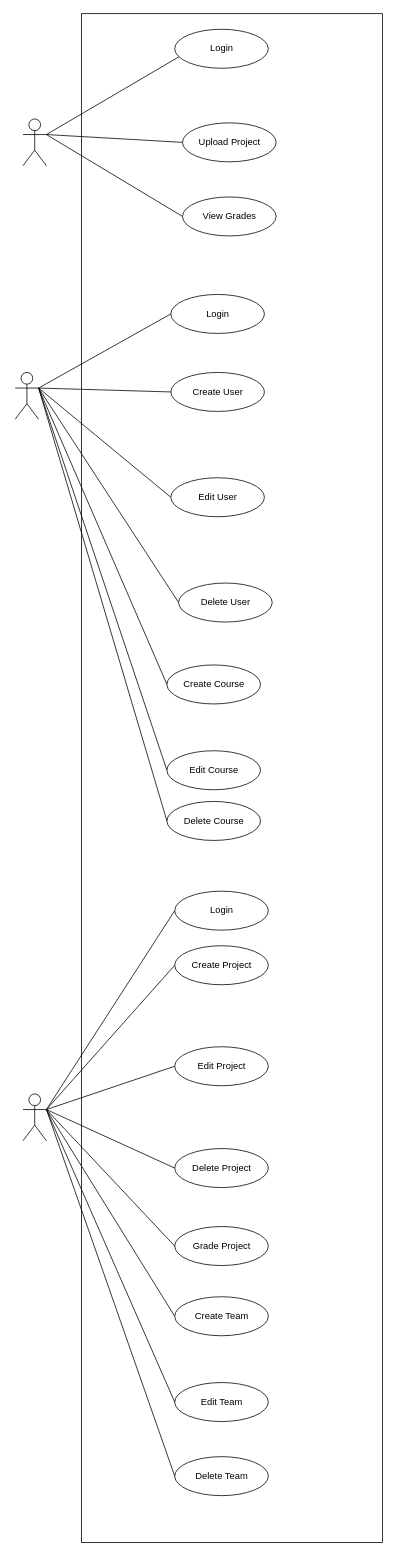
The diagram is 396 pixels wide and 1556 high, and some of its shapes have lost their labels. The box of each missing label's shape, as (x1, y1, x2, y2) in pixels:
Admin: (14, 372, 39, 419)
Professor: (22, 1093, 46, 1141)
Student: (22, 118, 46, 166)
